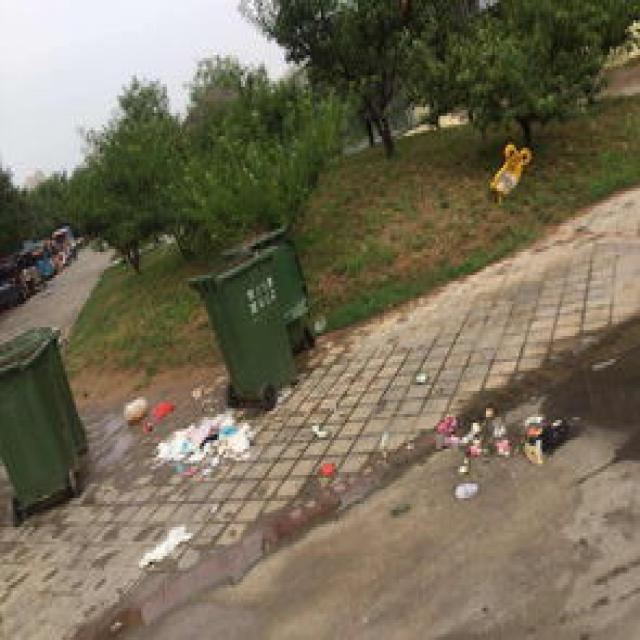garbage: (121, 382, 254, 478), (432, 403, 558, 495)
garbage_bin: (187, 243, 297, 400), (0, 322, 87, 509), (254, 220, 312, 350)
